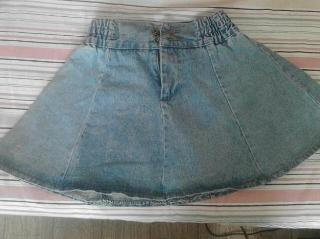skirt: (1, 10, 319, 207)
